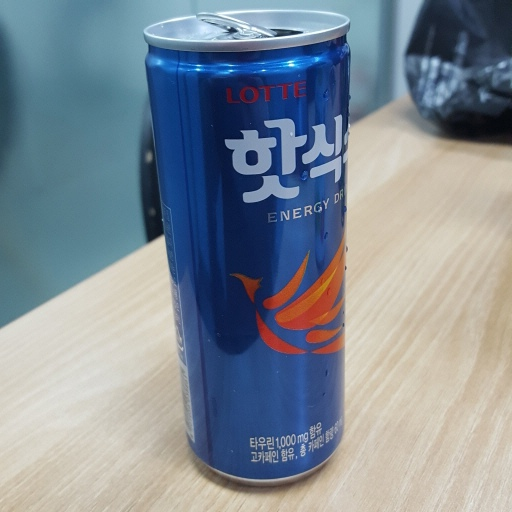Metal_0: (141, 10, 354, 483)
